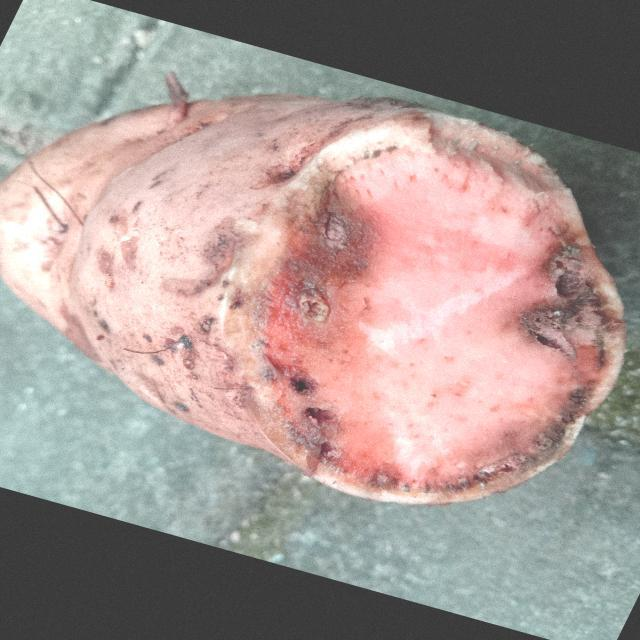Sick Sweet Potato_Tuber Rot: (243, 101, 625, 504)
